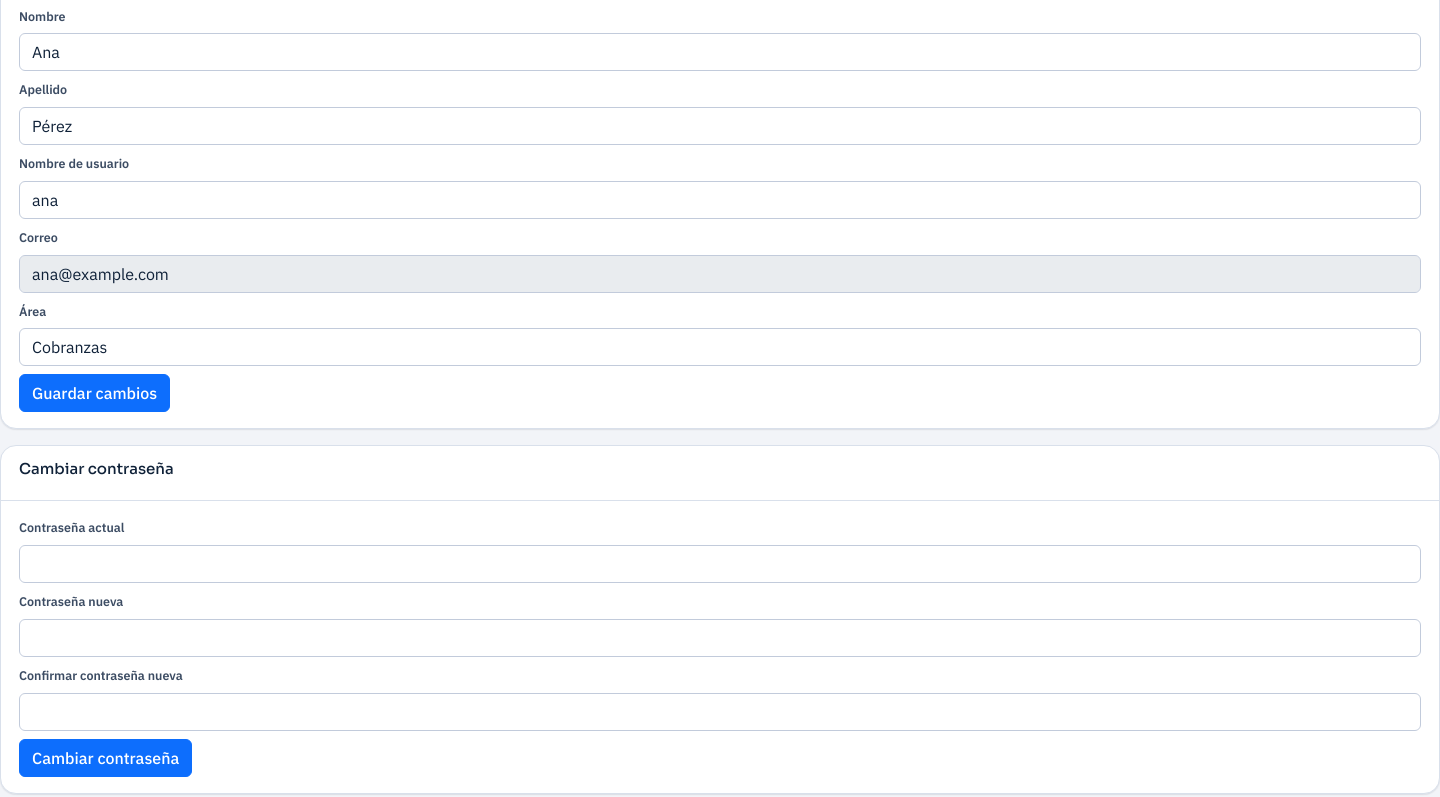
Test case: ProfilePage › contraseña actual incorrecta muestra el error del backend
(page scrolled)
Type "incorrecta" into the password field labelled "Contraseña actual" at {"x": 720, "y": 564}, box [19,545,1421,583]
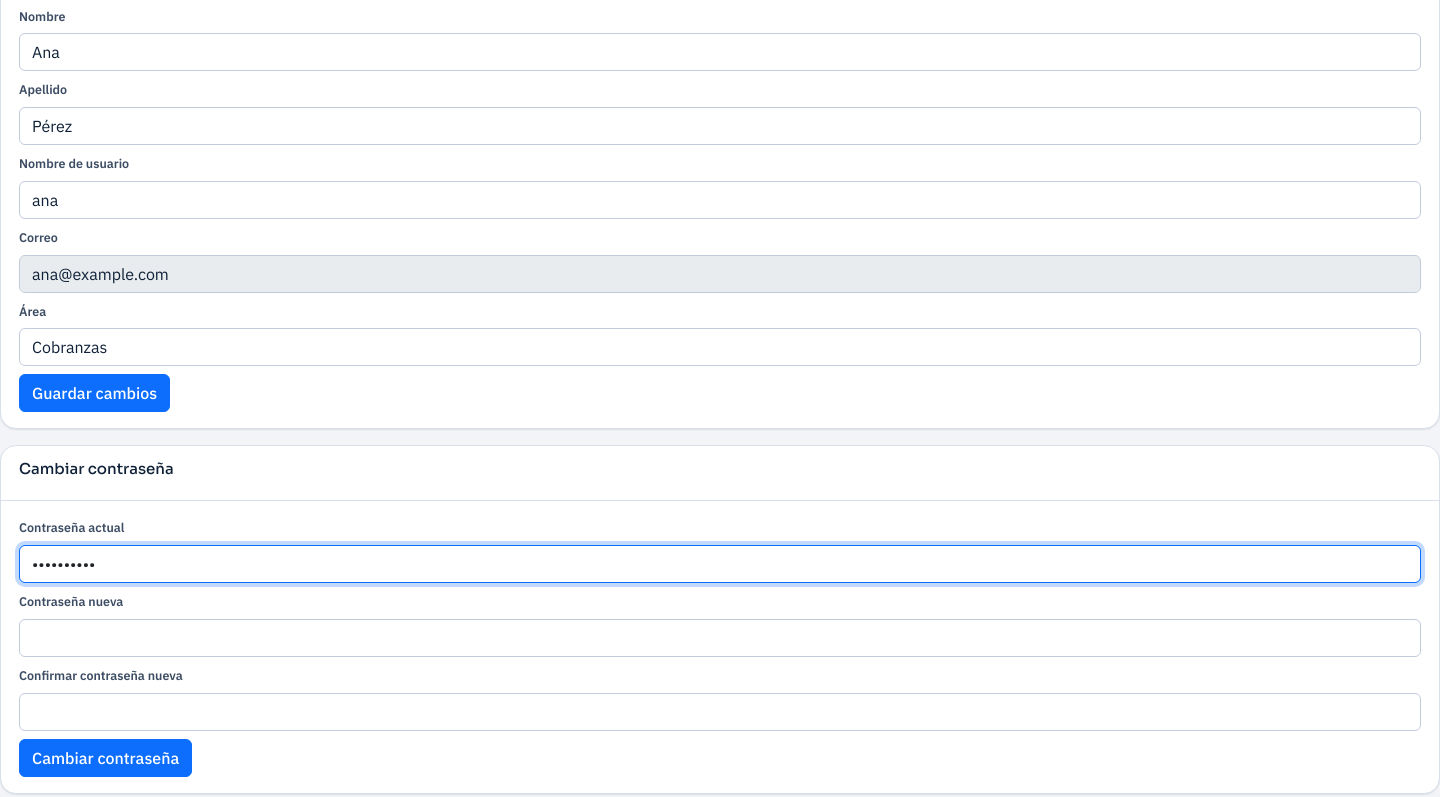
Type "Nueva-12345" into the password field labelled "Contraseña nueva" at {"x": 720, "y": 638}, box [19,619,1421,657]
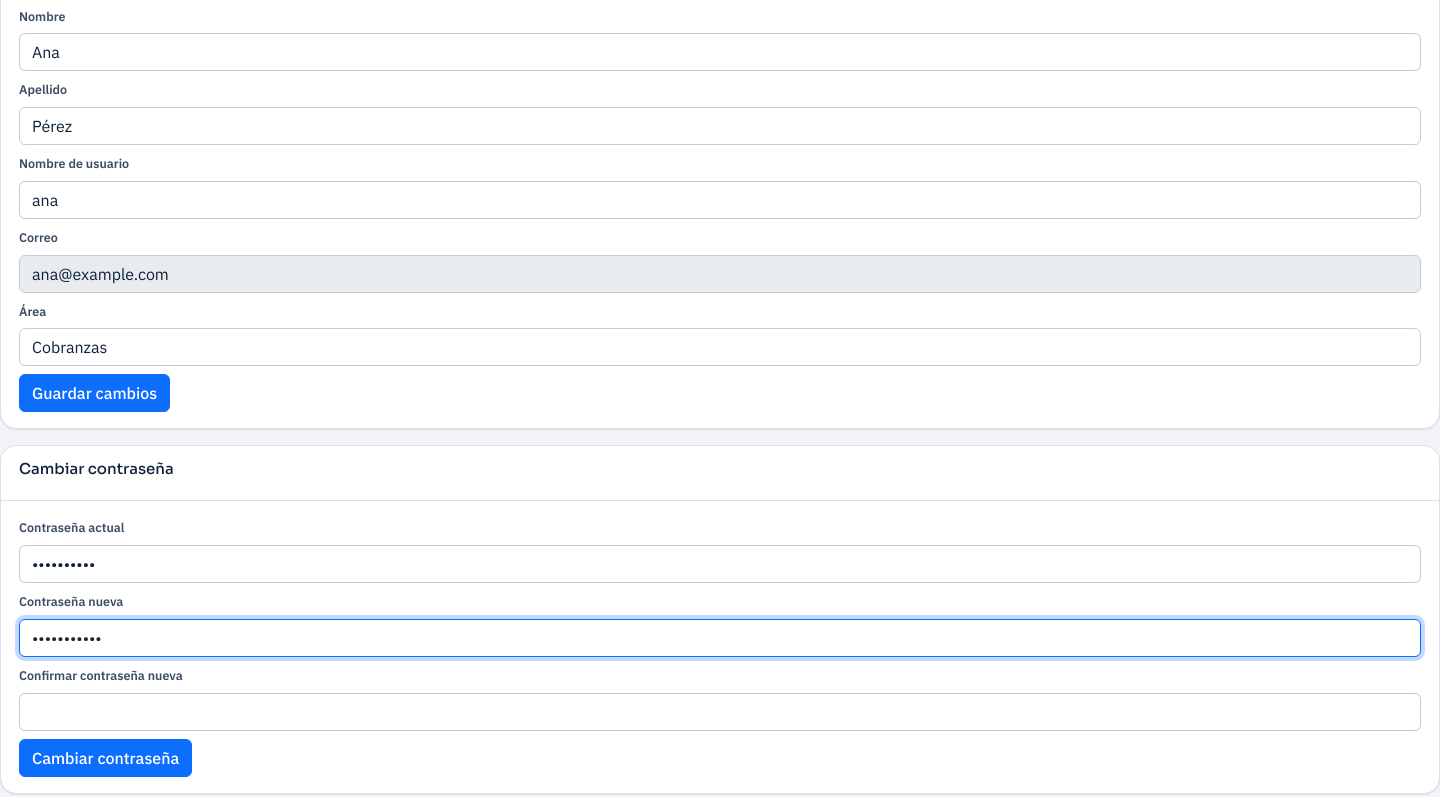
Type "Nueva-12345" into the password field labelled "Confirmar contraseña nueva" at {"x": 720, "y": 712}, box [19,693,1421,731]
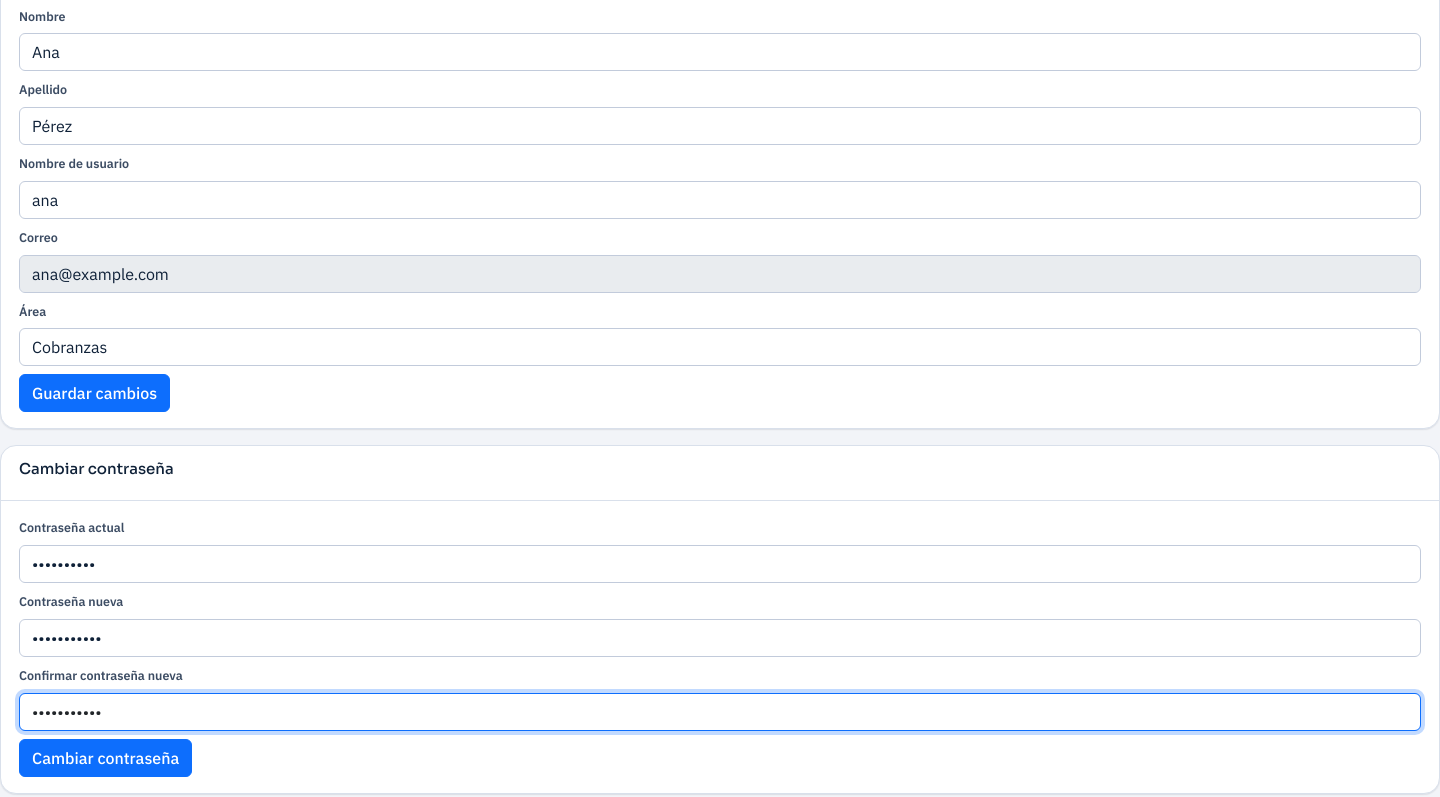
Click the button "Cambiar contraseña" at {"x": 106, "y": 758}, box [19,739,192,777]
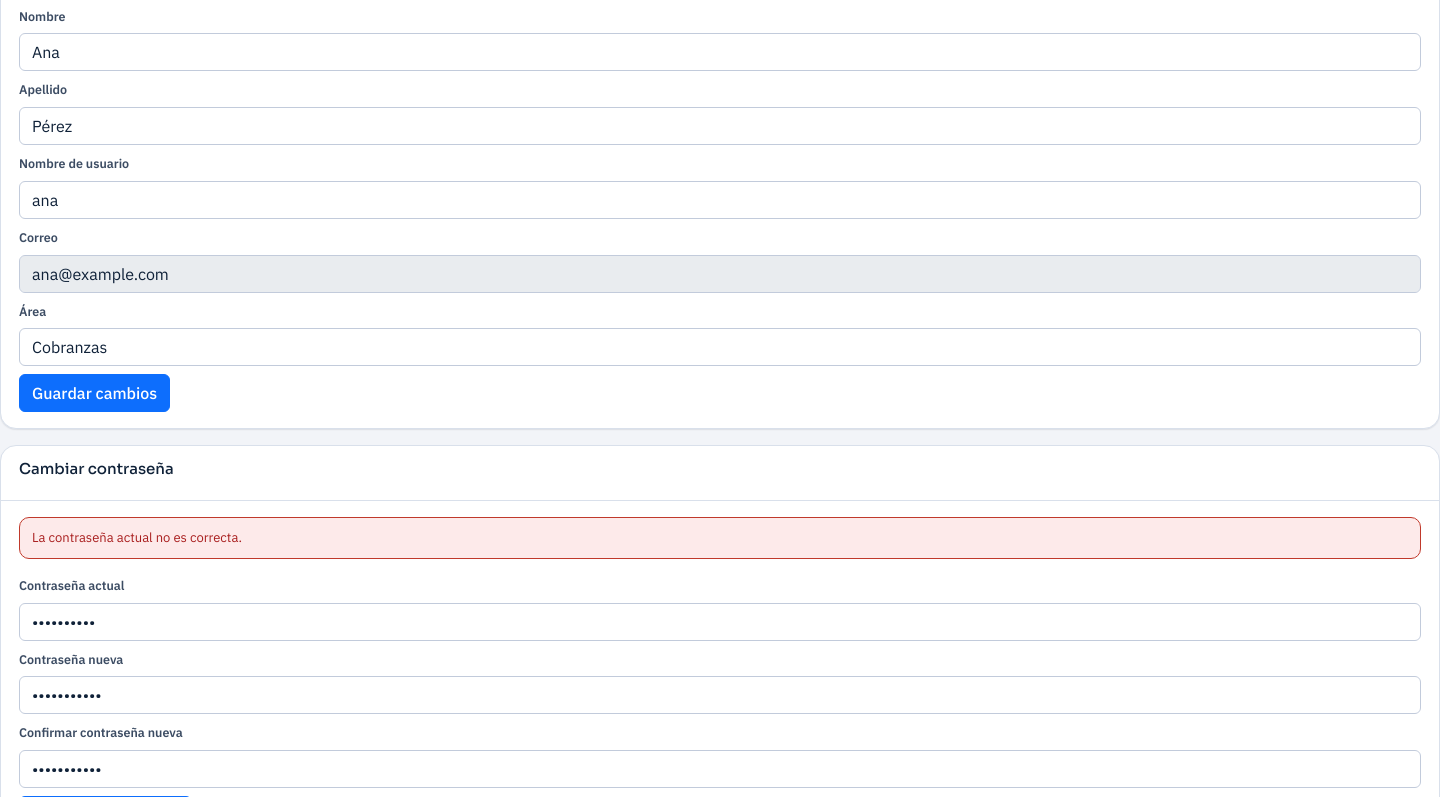
Result: the text "La contraseña actual no es correcta." is shown at [19,517,1421,559]
